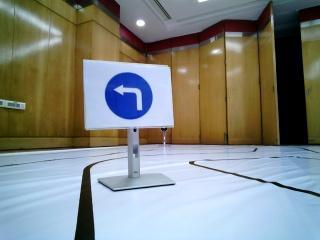left: (85, 65, 167, 127)
